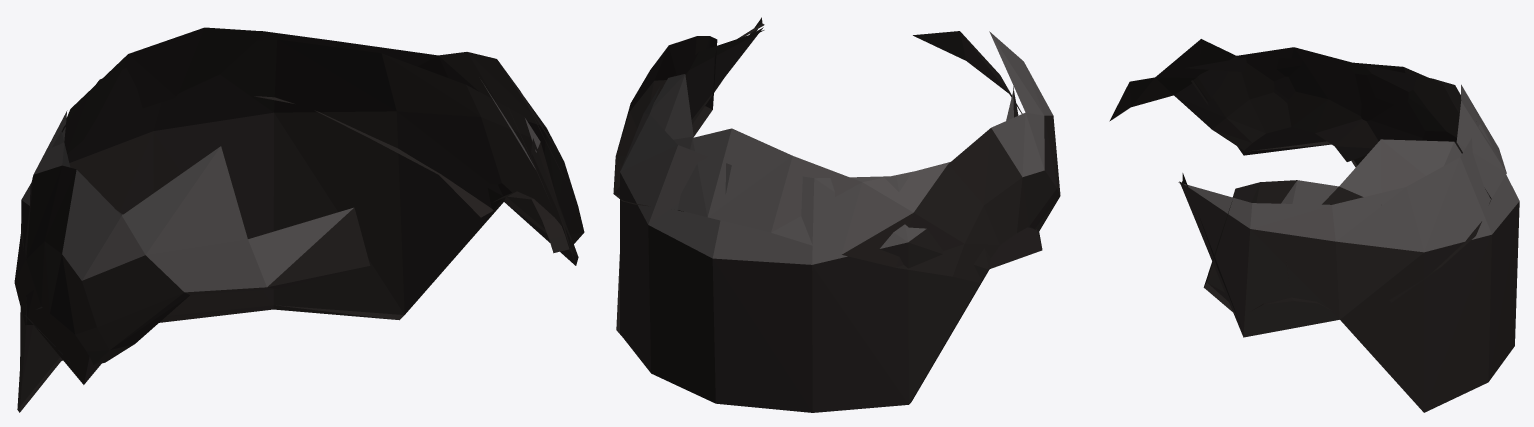
The model's file is hair_side_part_01_hatcut.glb.
3 views of the same model, side by side, from view 1: azimuth 30°, elevation 25°; view 2: azimuth 150°, elevation 25°; view 3: azimuth 270°, elevation 25° (orthographic). The views are drawn at different scales.
Visible parts, largest first — view 1: hair_side_part_01_hatcut; view 2: hair_side_part_01_hatcut; view 3: hair_side_part_01_hatcut.
Boxes of the visible parts, x1=… form: hair_side_part_01_hatcut: x1=14, y1=27, x2=584, y2=412; hair_side_part_01_hatcut: x1=613, y1=17, x2=1060, y2=412; hair_side_part_01_hatcut: x1=1109, y1=39, x2=1519, y2=412.
Bounding box in the file's own units: 0.272 × 0.1929 × 0.2702.
1 material, 1 textured.
